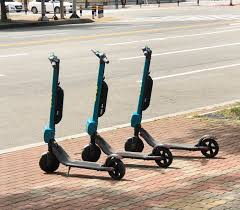kick_board: (81, 50, 174, 165), (41, 54, 125, 178), (127, 48, 220, 156)
kick_body: (66, 160, 104, 171), (111, 149, 152, 158), (153, 141, 198, 149)
kick_handler: (92, 49, 109, 63), (47, 52, 59, 69), (143, 46, 151, 59)
kick_neck: (89, 66, 109, 136), (133, 60, 154, 126), (46, 70, 65, 142)
kick_wheel: (199, 135, 220, 158), (105, 156, 125, 179), (39, 151, 58, 171), (152, 147, 172, 166), (125, 137, 146, 153), (82, 144, 101, 161)
